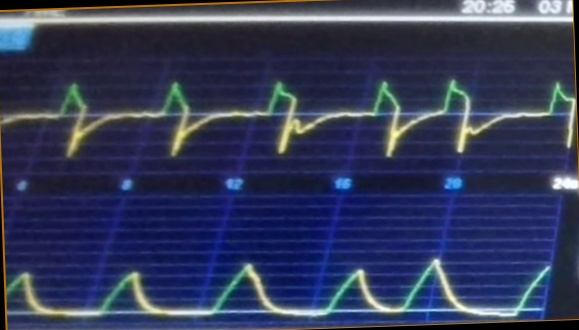Premature_cycling Flow: (4, 70, 576, 164)
Premature_cycling Volume: (9, 244, 551, 319)
